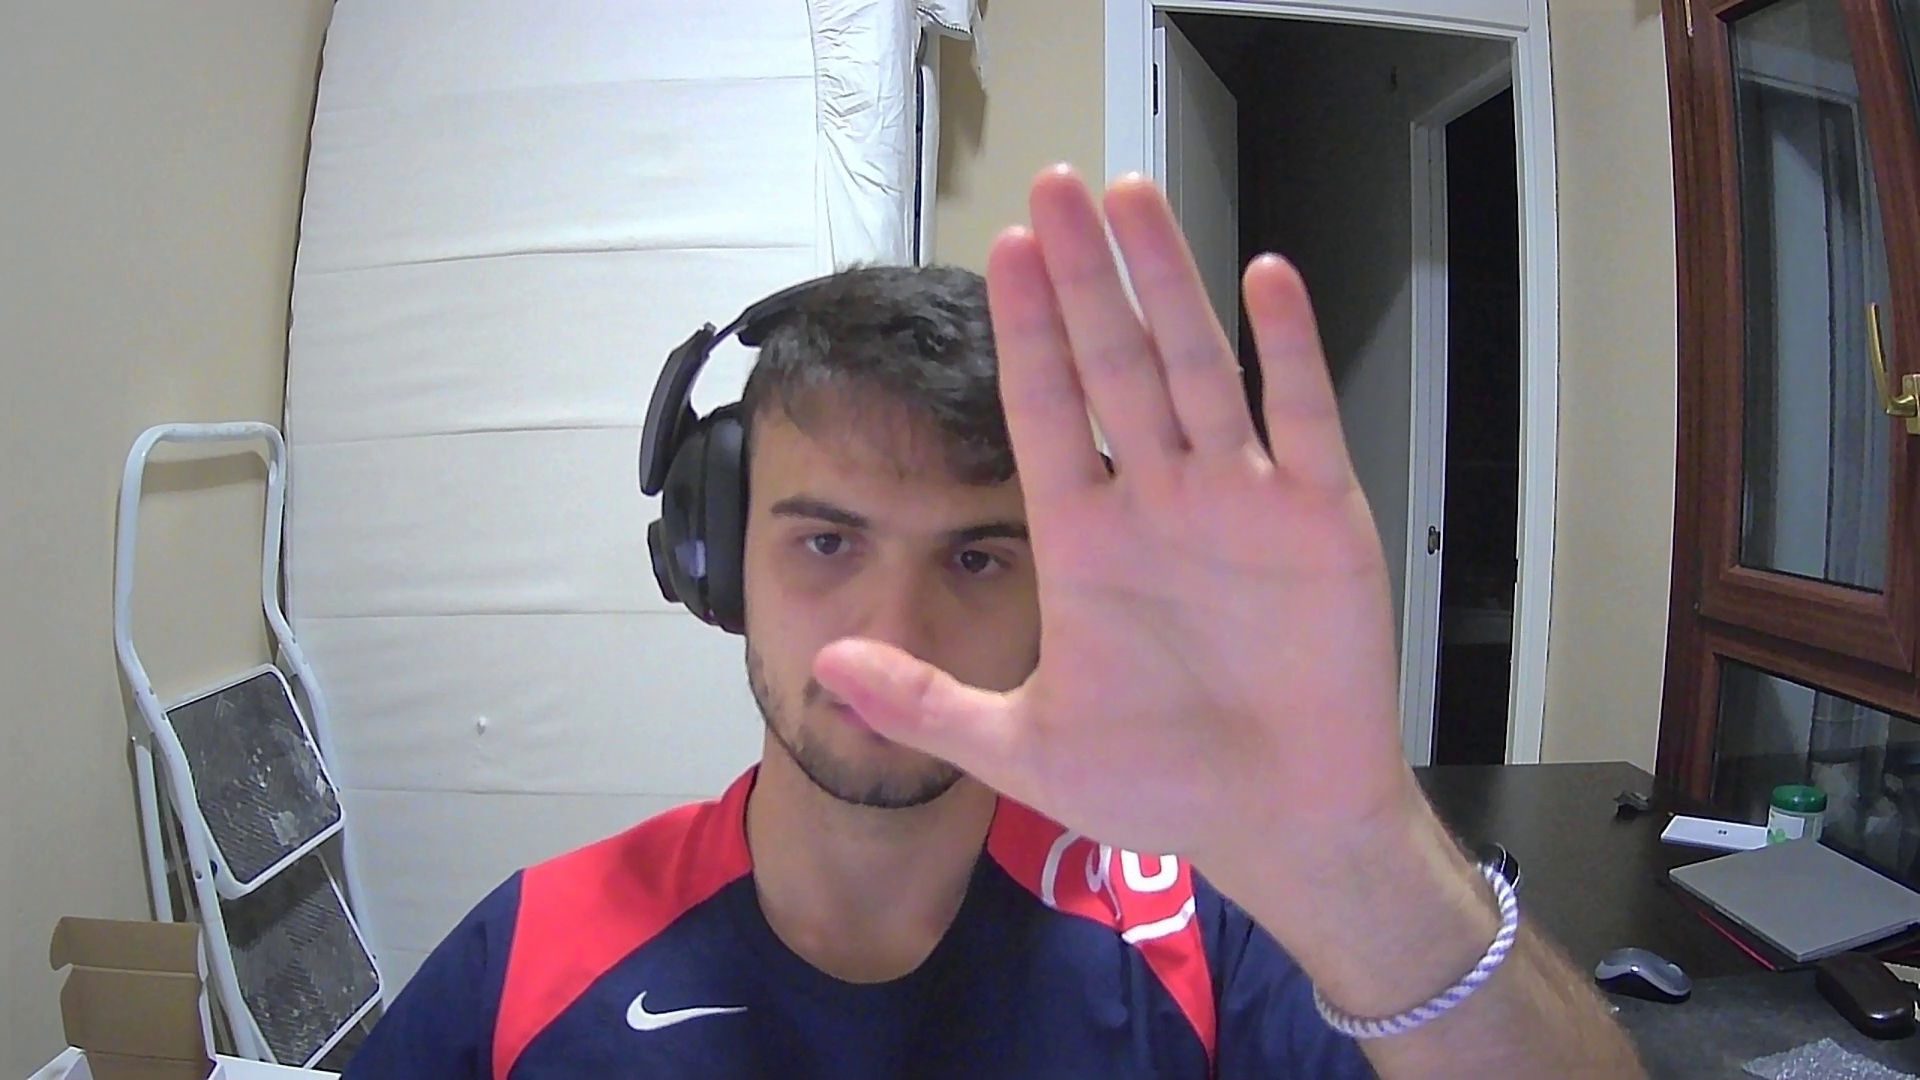Palm: (814, 156, 1408, 884)
